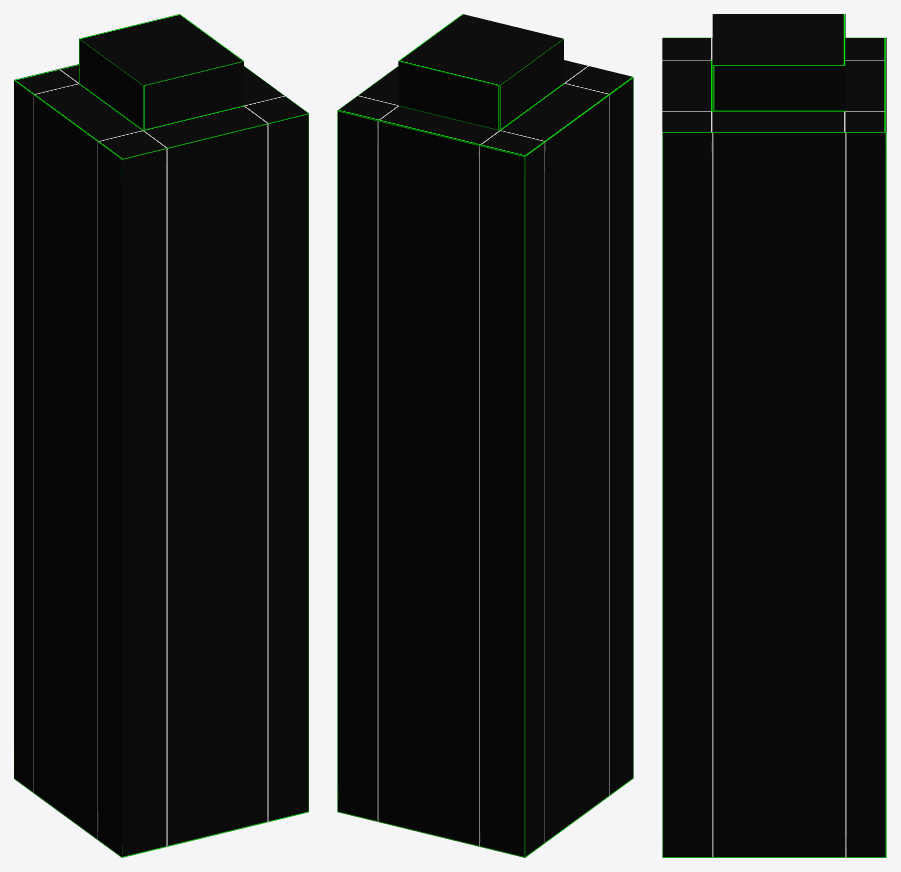
File: Skyscraper.FBX
The picture shows the model from 3 angles, left to right: view 1: azimuth 30°, elevation 25°; view 2: azimuth 150°, elevation 25°; view 3: azimuth 270°, elevation 25°; orthographic projection. The views are drawn at different scales.
Parts seen in each view (by area): view 1: SkyScraper; view 2: SkyScraper; view 3: SkyScraper.
Boxes of the visible parts, x1,y1,x2,y2 form: SkyScraper: (14,14,308,857); SkyScraper: (337,14,633,857); SkyScraper: (662,14,886,857).
Size of what is drawn, in the model's own units: 0.3937 by 1.5 by 0.3937.
Materials: 1 (1 with a texture image).
